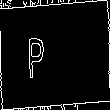P_N: (46, 29, 64, 81)
